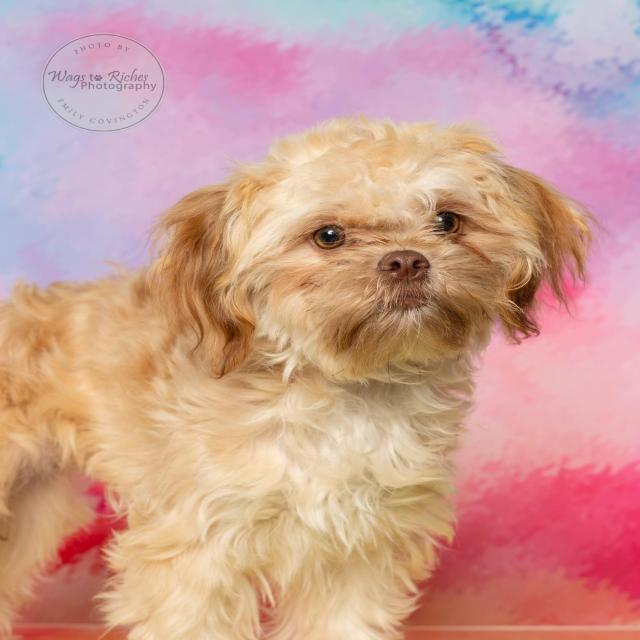shih_tzu_dog: (156, 120, 592, 397)
